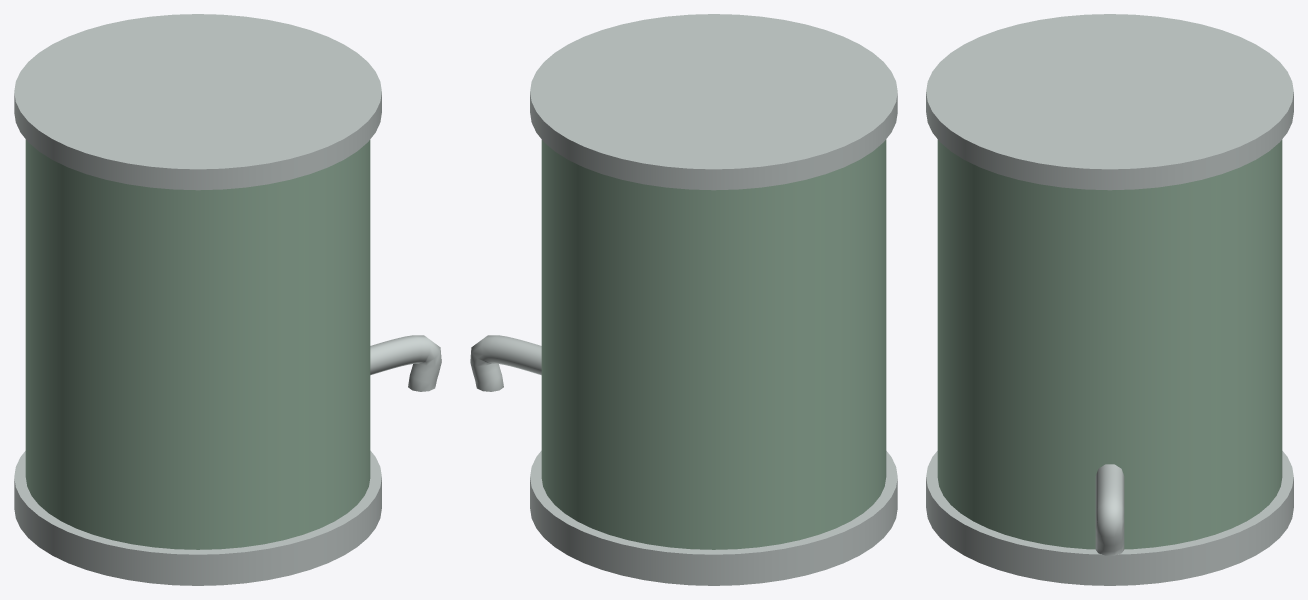
The model's file is ceramics-pottery-studio-settling-tank-73dd4ae1__29494.glb.
The picture shows the model from 3 angles, left to right: view 1: azimuth 30°, elevation 25°; view 2: azimuth 150°, elevation 25°; view 3: azimuth 270°, elevation 25°; orthographic projection.
Visible parts, largest first — view 1: settling-tank; view 2: settling-tank; view 3: settling-tank.
Boxes of the visible parts, x1,y1,x2,y2 form: settling-tank: [14, 14, 441, 585]; settling-tank: [470, 14, 897, 585]; settling-tank: [926, 14, 1293, 585].
Bounding box in the file's own units: 0.8053 × 0.8 × 0.64.
